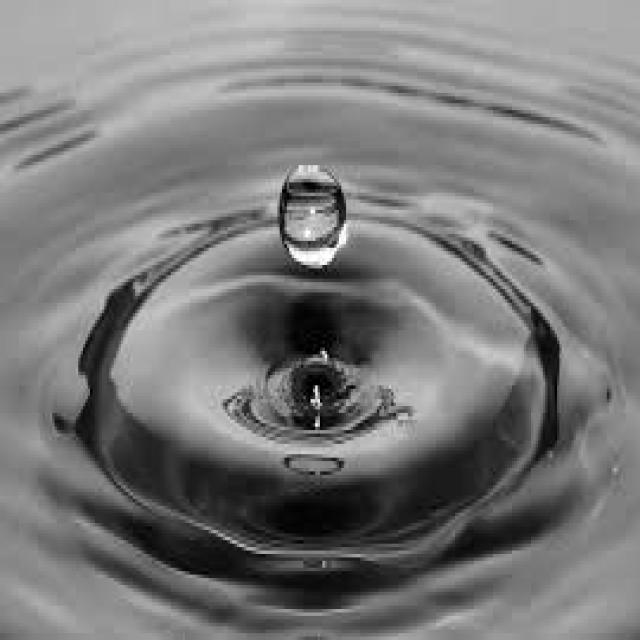raindrop: (277, 138, 377, 315)
